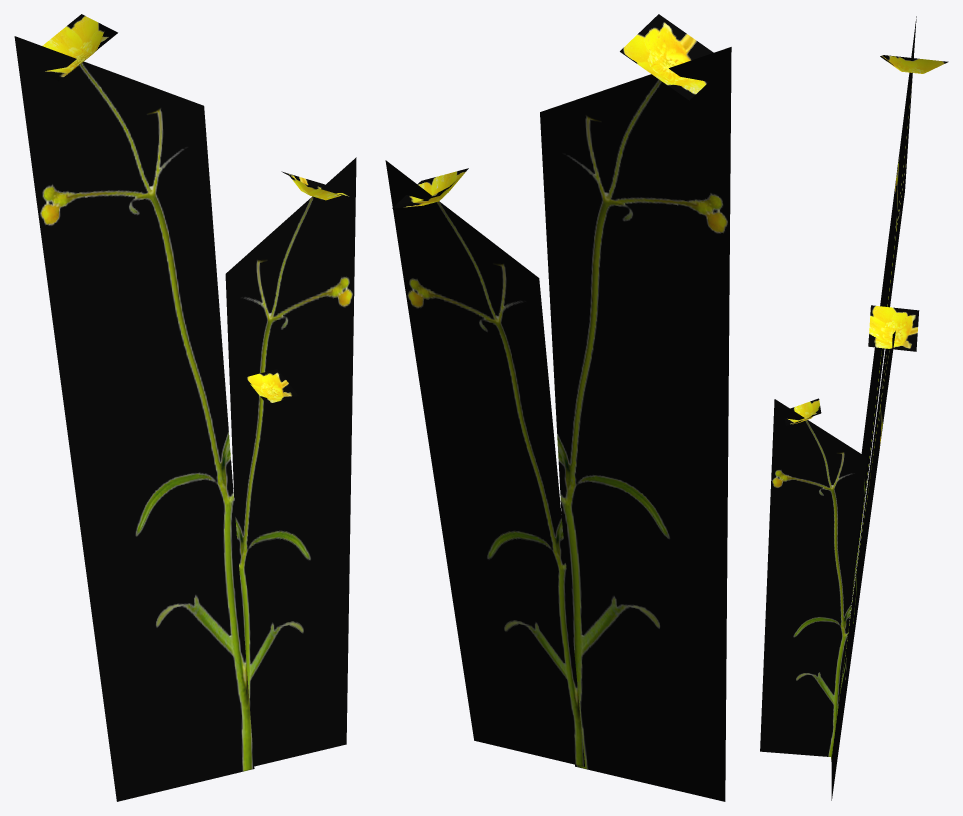
File: 13_Ranunculus_acris_small_001.fbx
The picture shows the model from 3 angles, left to right: view 1: azimuth 30°, elevation 25°; view 2: azimuth 150°, elevation 25°; view 3: azimuth 270°, elevation 25°; orthographic projection. The views are drawn at different scales.
Parts seen in each view (by area): view 1: 13_Ranunculus_acris_small.001; view 2: 13_Ranunculus_acris_small.001; view 3: 13_Ranunculus_acris_small.001.
Part boxes in pixels (x1,y1,x2,y2): 13_Ranunculus_acris_small.001: (14,14,356,801); 13_Ranunculus_acris_small.001: (385,14,731,801); 13_Ranunculus_acris_small.001: (760,16,948,800).
Bounding box in the file's own units: 0.0799 × 0.1721 × 0.0443.
